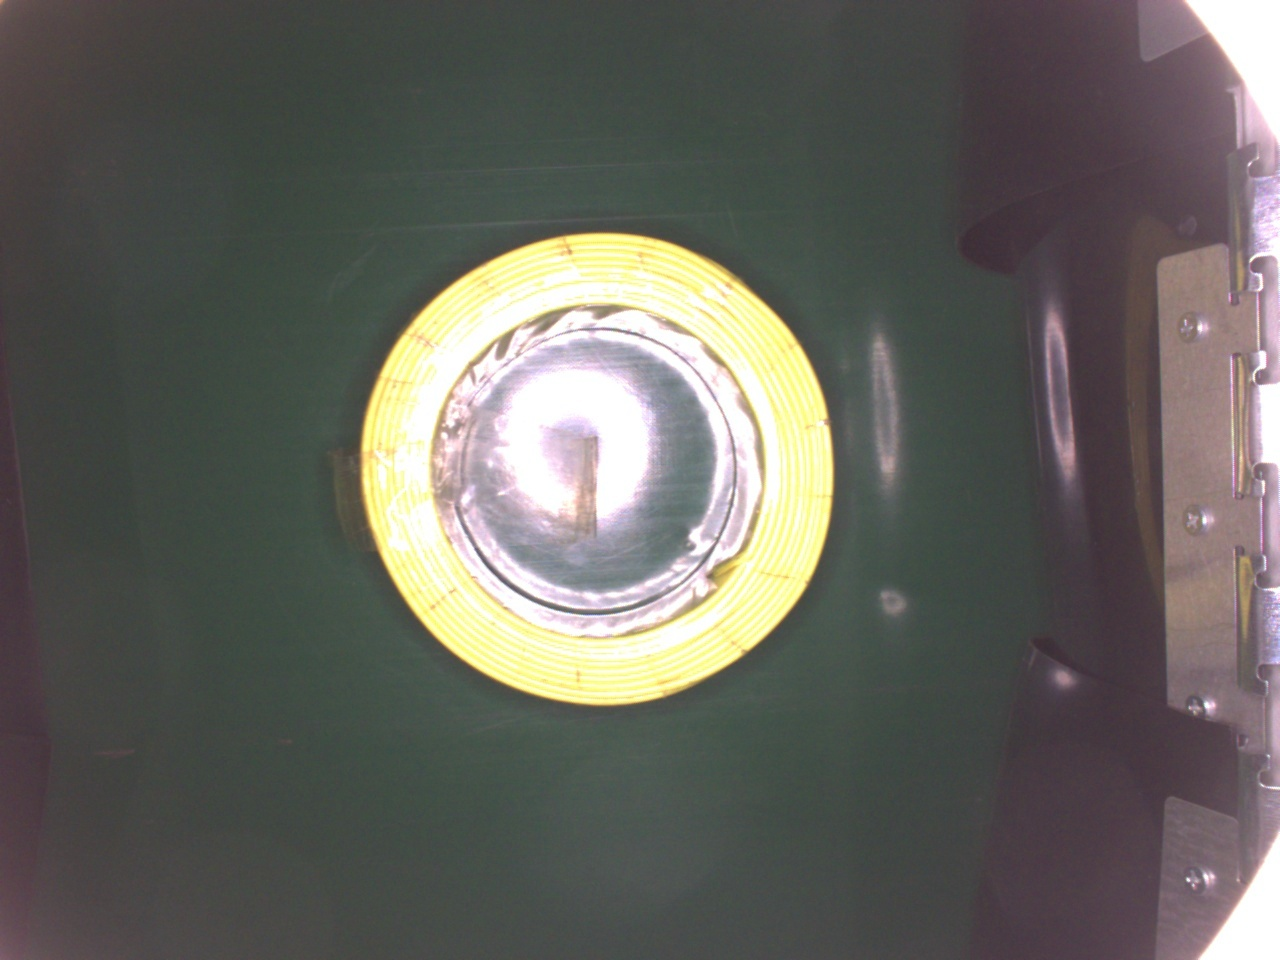yellow: (356, 221, 828, 707)
